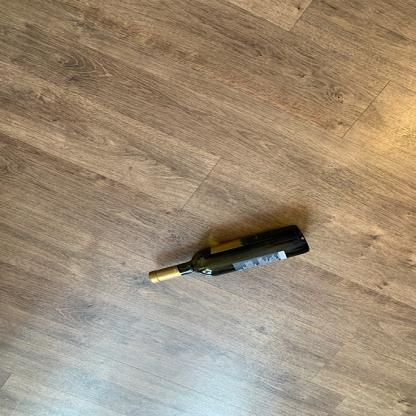trash: (149, 225, 313, 285)
